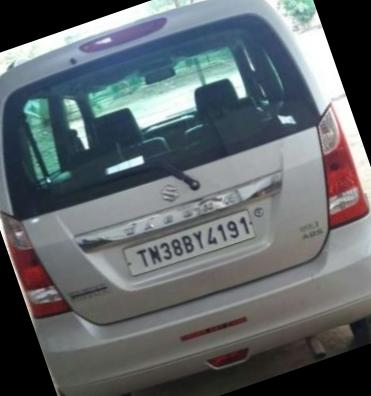plate: (111, 184, 279, 298)
